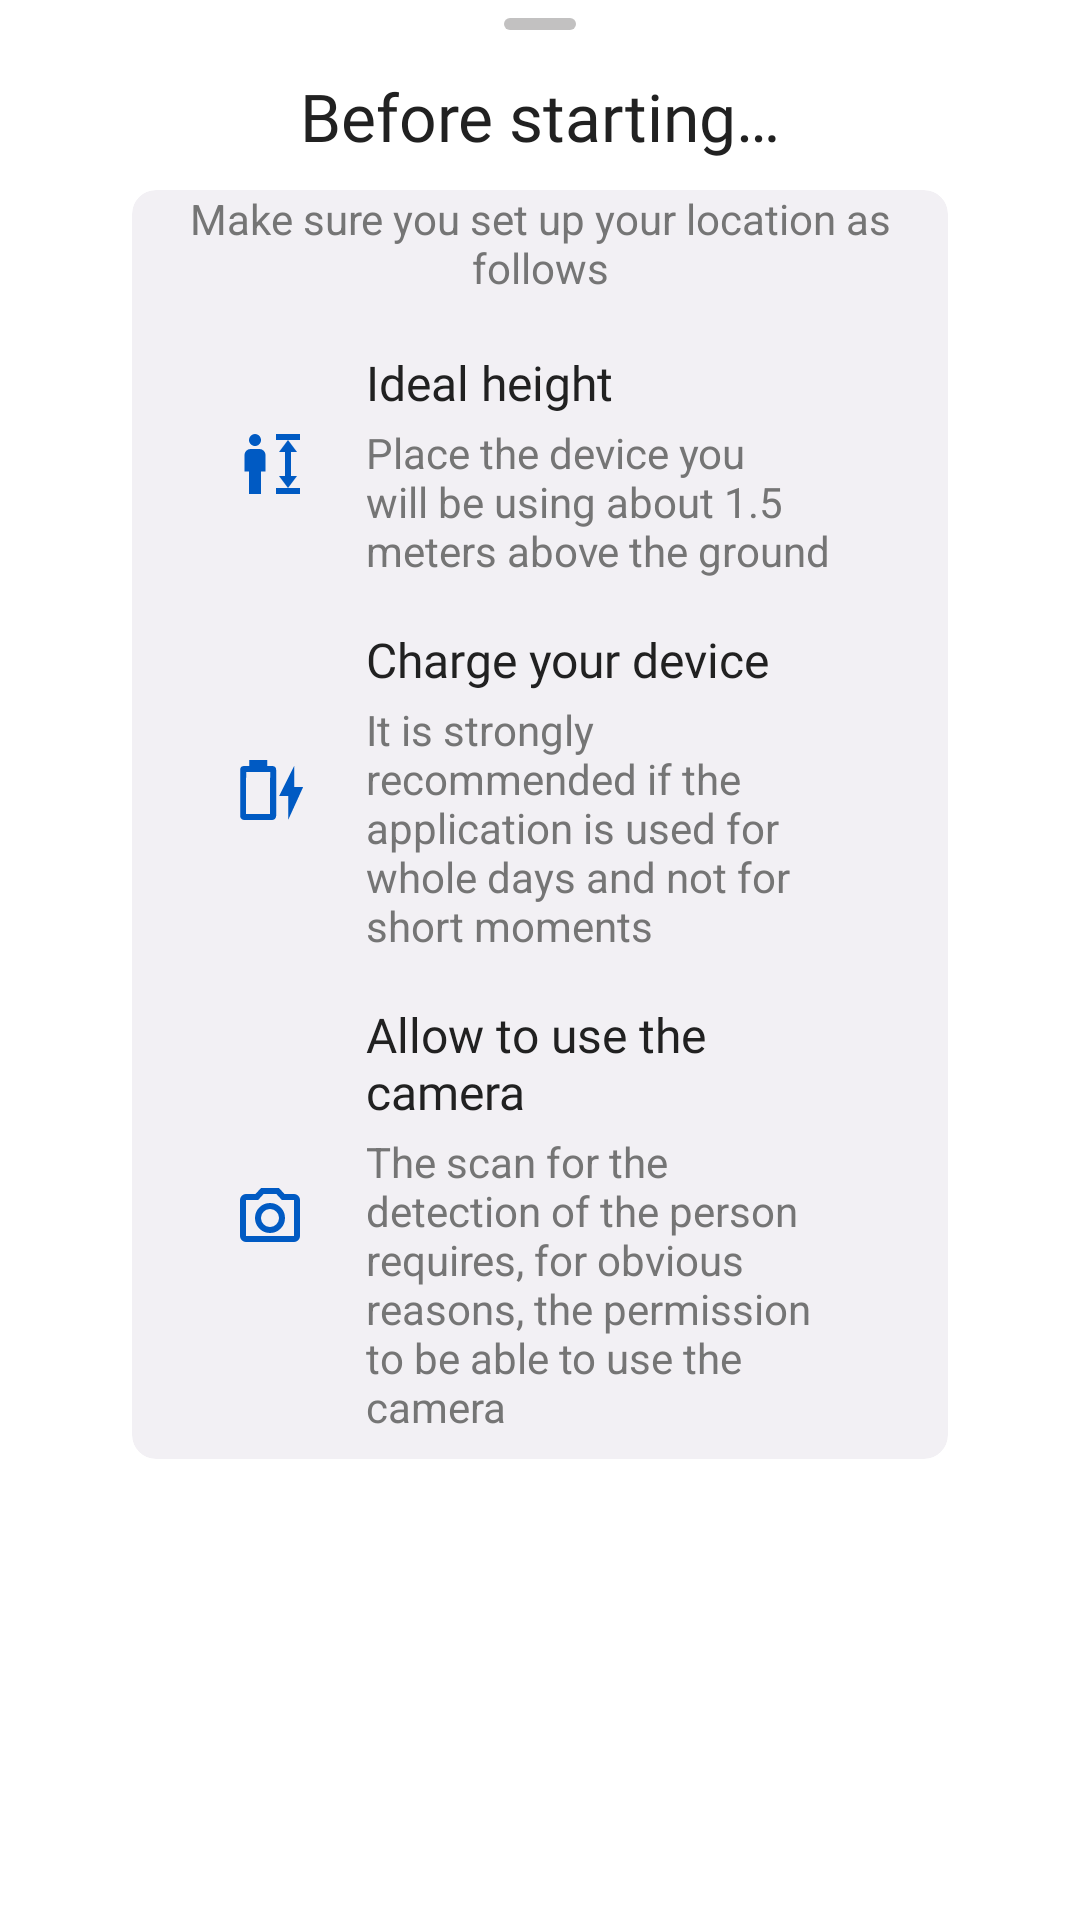

Icon bounding boxes for this 1080×1920 phone screenshot, format (x1, y1, x2, y2):
battery: (240, 760, 303, 820)
camera start: (240, 1188, 300, 1242)
